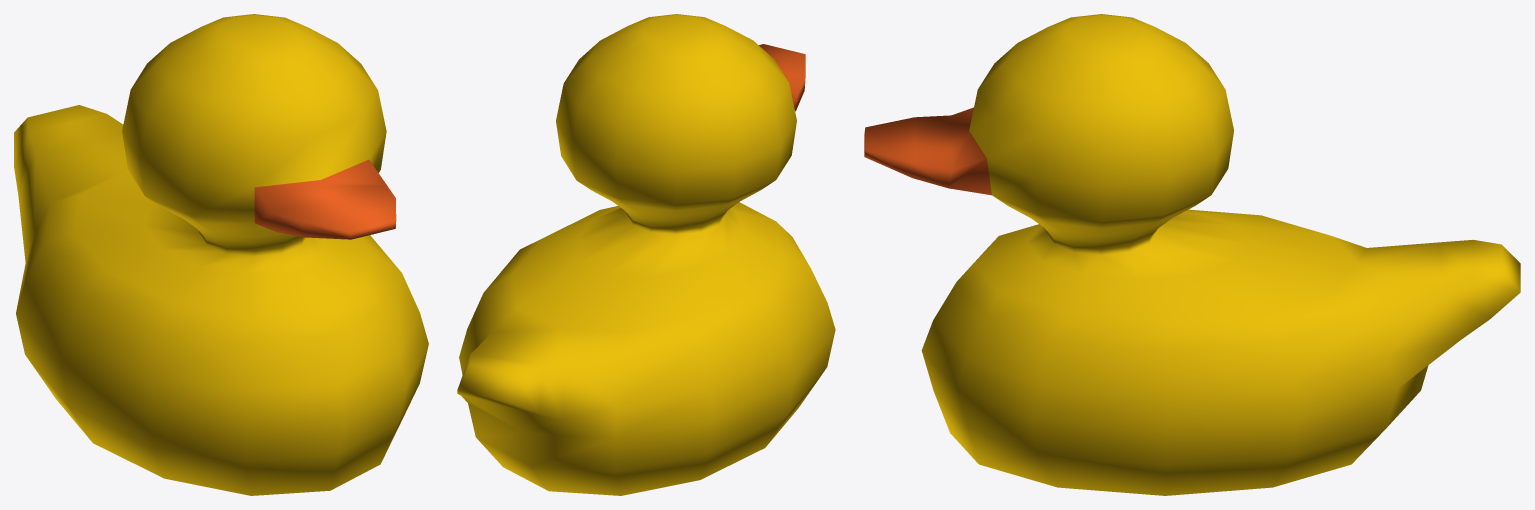
Rendered from RubberDuck.fbx.
3 views of the same model, side by side, from view 1: azimuth 30°, elevation 25°; view 2: azimuth 150°, elevation 25°; view 3: azimuth 270°, elevation 25° (orthographic). The views are drawn at different scales.
Parts seen in each view (by area): view 1: RubberDuck; view 2: RubberDuck; view 3: RubberDuck.
Part boxes in pixels (x1,y1,x2,y2): RubberDuck: (14, 14, 428, 495); RubberDuck: (457, 14, 835, 495); RubberDuck: (864, 14, 1520, 495).
Bounding box in the file's own units: 15.68 × 18.79 × 27.83.
